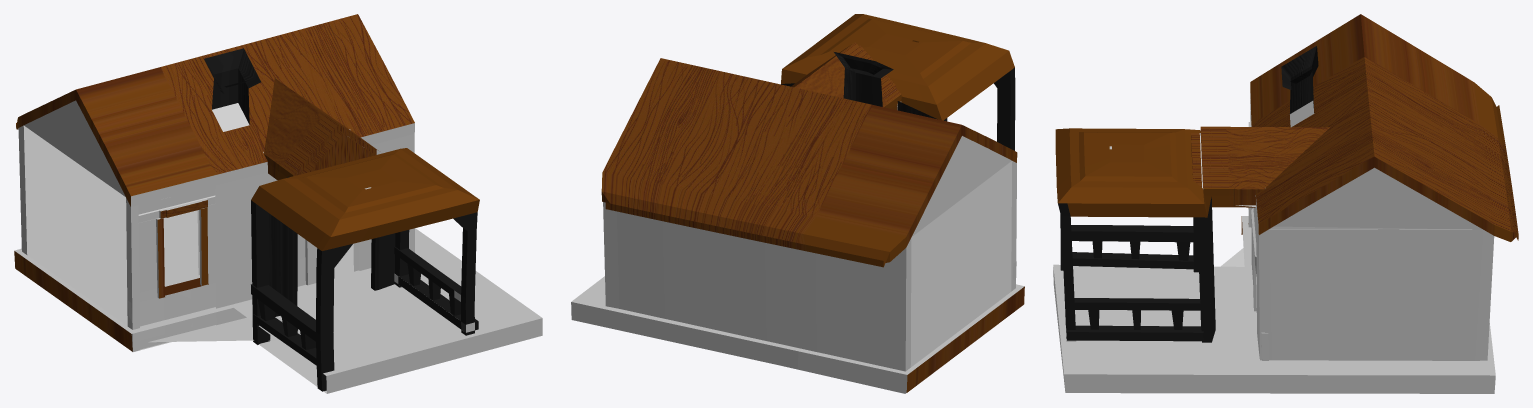
Rendered from house3.fbx.
The picture shows the model from 3 angles, left to right: view 1: azimuth 30°, elevation 25°; view 2: azimuth 150°, elevation 25°; view 3: azimuth 270°, elevation 25°; orthographic projection.
Visible parts, largest first — view 1: Plane; view 2: Plane; view 3: Plane.
Boxes of the visible parts, x1=… form: Plane: x1=14, y1=14, x2=542, y2=393; Plane: x1=571, y1=14, x2=1024, y2=393; Plane: x1=1053, y1=14, x2=1518, y2=393.
Size of the model in its own units: 118 by 84.91 by 144.
